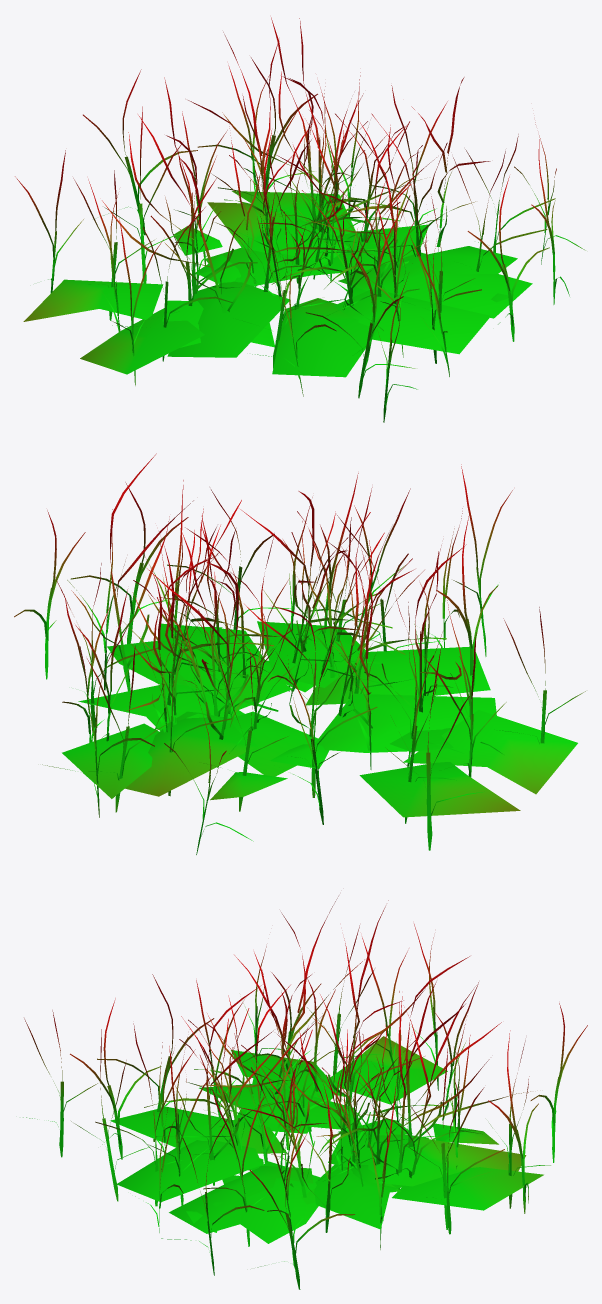
The model's file is Kikuyu Grass_LOD2_Var5_wiljearqx.fbx.
3 renders of one model, top to bottom at view 1: azimuth 30°, elevation 25°; view 2: azimuth 150°, elevation 25°; view 3: azimuth 270°, elevation 25°, orthographic. The views are drawn at different scales.
Visible parts, largest first — view 1: _hgeu_Var5_LOD2; view 2: _hgeu_Var5_LOD2; view 3: _hgeu_Var5_LOD2.
Boxes of the visible parts, bbox=[...] form: _hgeu_Var5_LOD2: bbox=[15, 17, 585, 422]; _hgeu_Var5_LOD2: bbox=[14, 453, 585, 854]; _hgeu_Var5_LOD2: bbox=[23, 896, 587, 1289].
Size of the model in its own units: 73.36 by 34.01 by 75.44.
